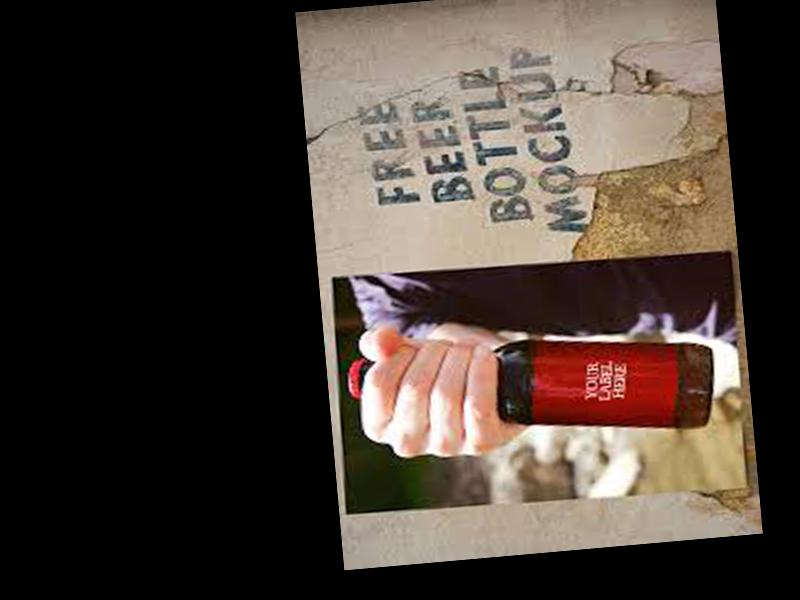Beer: (346, 327, 719, 458)
